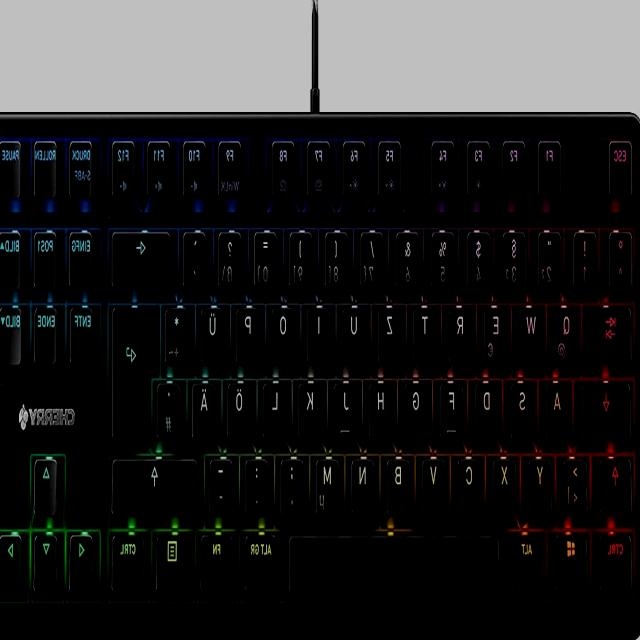0: (254, 226, 279, 292)
1: (574, 226, 599, 290)
2: (537, 226, 563, 290)
3: (502, 226, 528, 292)
4: (467, 226, 492, 290)
5: (431, 225, 457, 291)
6: (396, 225, 421, 291)
7: (360, 225, 386, 291)
8: (324, 226, 350, 292)
9: (289, 225, 315, 291)
a: (547, 378, 572, 440)
accent: (183, 225, 208, 291)
ae: (192, 377, 218, 441)
alt-left: (511, 528, 547, 592)
altgr-right: (244, 528, 282, 596)
b: (386, 453, 412, 515)
c: (457, 452, 483, 516)
caret: (610, 226, 635, 290)
comma: (280, 452, 306, 518)
d: (476, 378, 501, 440)
del: (111, 225, 173, 289)
e: (485, 302, 510, 366)
enter: (111, 302, 159, 444)
f: (441, 377, 465, 438)
g: (405, 377, 430, 439)
h: (369, 378, 394, 440)
hash: (157, 378, 183, 442)
i: (308, 302, 333, 364)
j: (335, 376, 360, 440)
k: (298, 376, 324, 440)
keyboard: (0, 109, 640, 638)
l: (263, 378, 288, 440)
less: (564, 453, 590, 515)
m: (315, 452, 343, 518)
minus: (210, 454, 236, 516)
n: (351, 452, 377, 516)
o: (272, 301, 298, 365)
oe: (228, 377, 254, 441)
p: (236, 301, 262, 365)
plus: (165, 302, 191, 366)
point: (245, 453, 270, 515)
q: (555, 302, 581, 366)
r: (449, 301, 474, 365)
s: (511, 376, 537, 440)
shift-left: (600, 453, 634, 515)
shift-lock: (582, 378, 632, 440)
shift-right: (112, 454, 200, 516)
space: (288, 528, 503, 596)
ss: (218, 227, 244, 291)
strg-left: (599, 528, 635, 594)
strg-right: (110, 528, 149, 596)
t: (414, 300, 438, 364)
tab: (590, 302, 634, 364)
u: (343, 301, 368, 365)
ue: (201, 302, 228, 366)
v: (422, 454, 448, 516)
w: (520, 302, 546, 364)
x: (493, 454, 519, 516)
y: (529, 454, 555, 516)
z: (379, 301, 404, 365)
